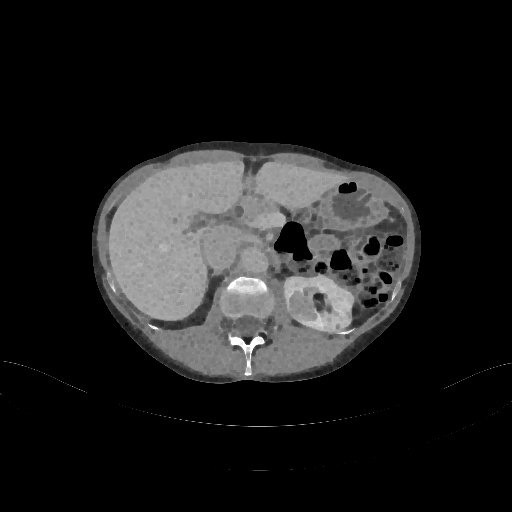Lesion: (284, 289, 318, 323)
